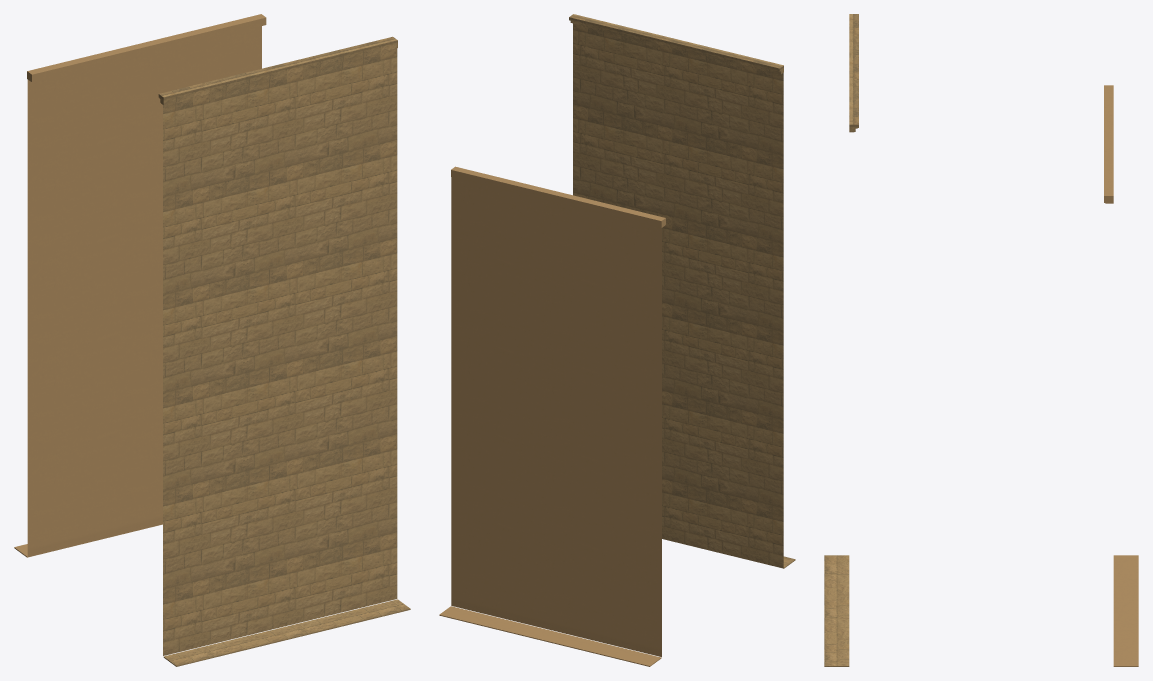
File: unit-link-west-mid.glb
3 renders of one model, left to right at view 1: azimuth 30°, elevation 25°; view 2: azimuth 150°, elevation 25°; view 3: azimuth 270°, elevation 25°, orthographic. The views are drawn at different scales.
Visible parts, largest first — view 1: bz06_dressed_sandstone-cast, bz06_sand_plaster-cast; view 2: bz06_sand_plaster-cast, bz06_dressed_sandstone-cast; view 3: bz06_sand_plaster-cast, bz06_dressed_sandstone-cast.
Boxes of the visible parts, x1,y1,x2,y2 form: bz06_dressed_sandstone-cast: (158,36,410,666); bz06_sand_plaster-cast: (14,14,266,557); bz06_sand_plaster-cast: (439,166,665,666); bz06_dressed_sandstone-cast: (569,14,795,568); bz06_sand_plaster-cast: (1104,85,1138,666); bz06_dressed_sandstone-cast: (824,14,858,666).
Bounding box in the file's own units: 5 × 11.42 × 6.
Materials: 2 (2 with a texture image).
